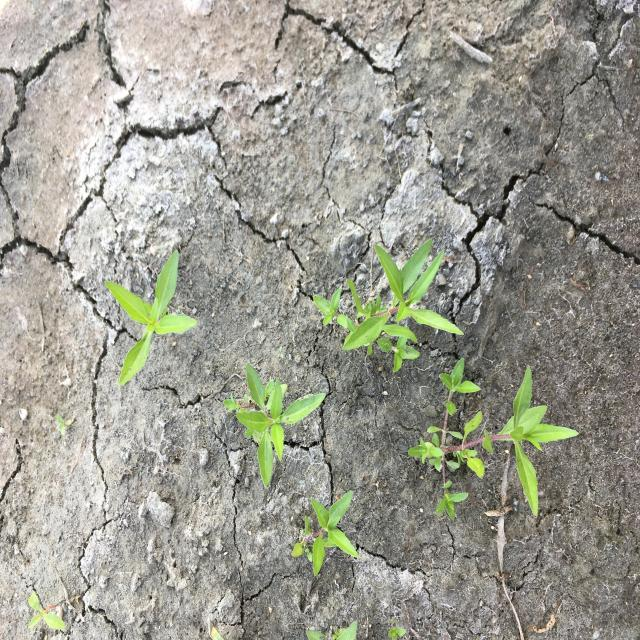Eclipta: (407, 357, 580, 522), (311, 237, 466, 373), (103, 249, 200, 388), (221, 363, 328, 488), (291, 489, 360, 578)
